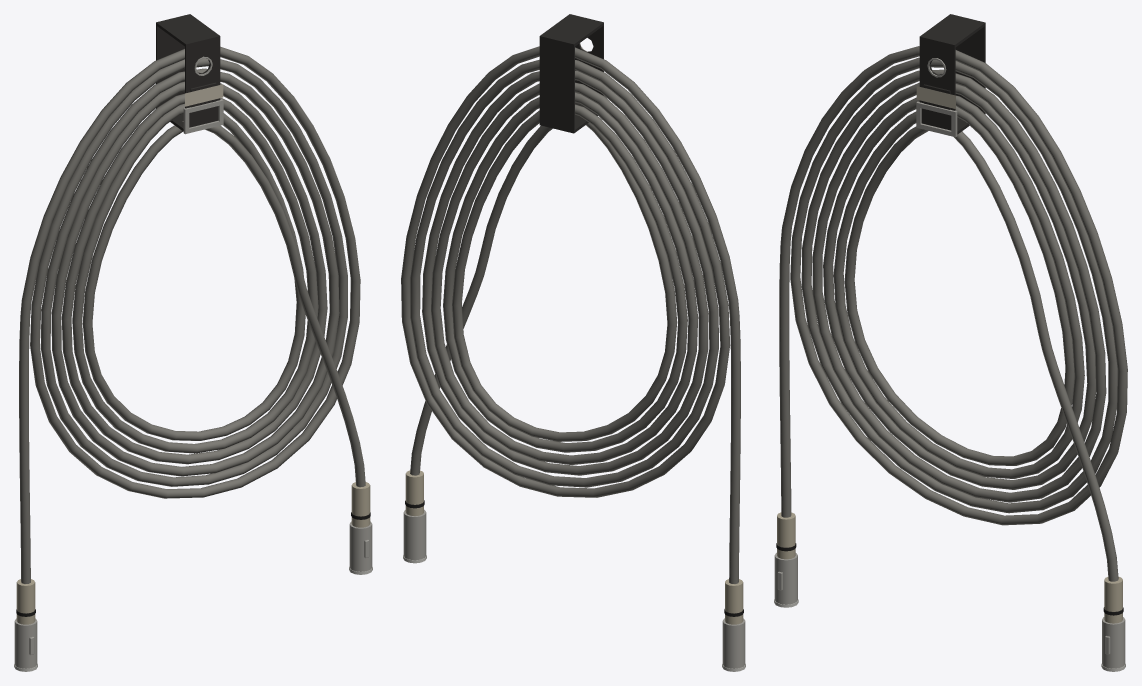
Rendered from cable-coil-large-grey-c88327af4c2c.glb.
The picture shows the model from 3 angles, left to right: view 1: azimuth 30°, elevation 25°; view 2: azimuth 150°, elevation 25°; view 3: azimuth 330°, elevation 25°; orthographic projection. The views are drawn at different scales.
Visible parts, largest first — view 1: cord-grey, plastic-dark, brushed, plastic-light, decal-print; view 2: cord-grey, plastic-dark, brushed, plastic-light; view 3: cord-grey, plastic-dark, brushed, plastic-light, decal-print.
Part boxes in pixels (x1,y1,x2,y2): cord-grey: (19,46,365,583); plastic-dark: (156,14,220,131); brushed: (14,56,372,668); plastic-light: (16,482,370,624); decal-print: (185,84,223,106); cord-grey: (401,46,740,583); plastic-dark: (539,14,603,133); brushed: (403,43,745,668); plastic-light: (405,470,743,624); cord-grey: (779,46,1127,581); plastic-dark: (919,14,985,134); brushed: (774,58,1125,668); plastic-light: (777,512,1122,623); decal-print: (916,86,955,108).
Size of the model in its own units: 0.253 by 0.416 by 0.0395.
